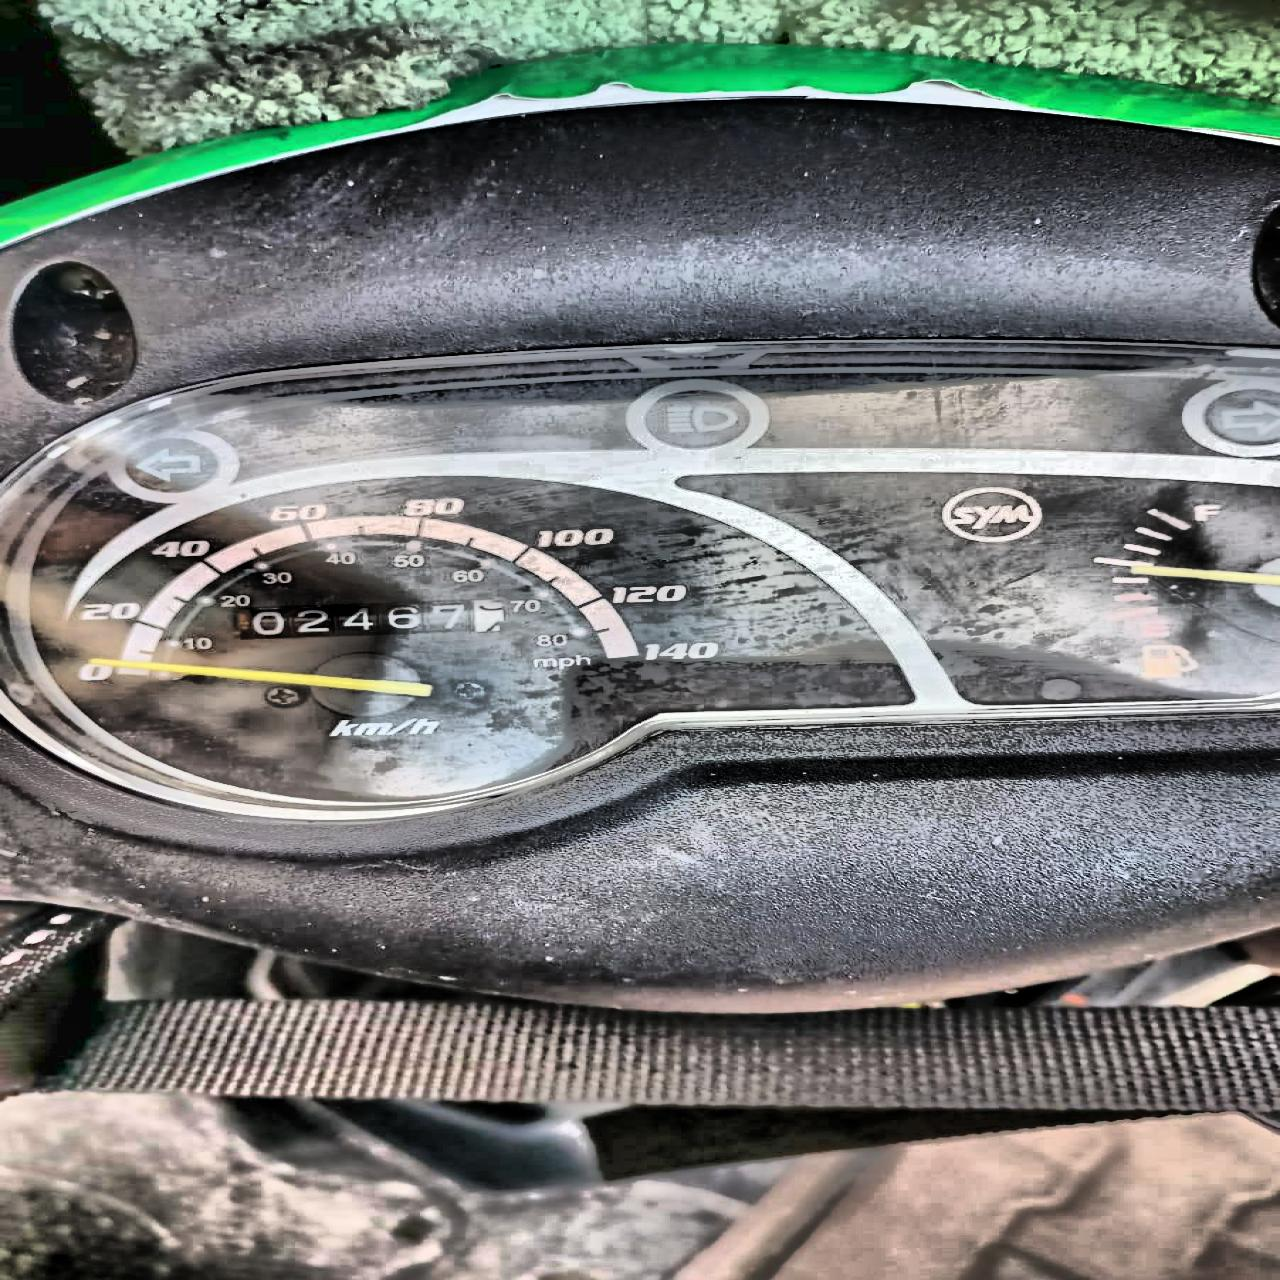0: (251, 608, 287, 636)
2: (293, 606, 329, 633)
4: (340, 606, 374, 632), (478, 617, 506, 636)
6: (384, 604, 421, 628)
7: (431, 601, 465, 629)
odometer: (247, 598, 509, 640)
